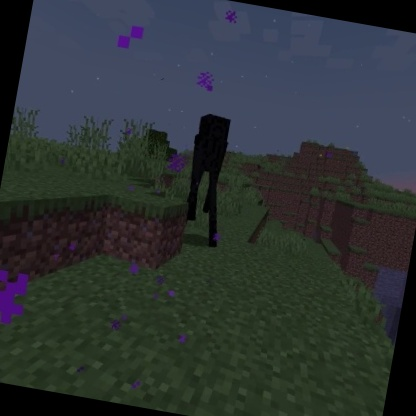enderman: (173, 110, 243, 251)
